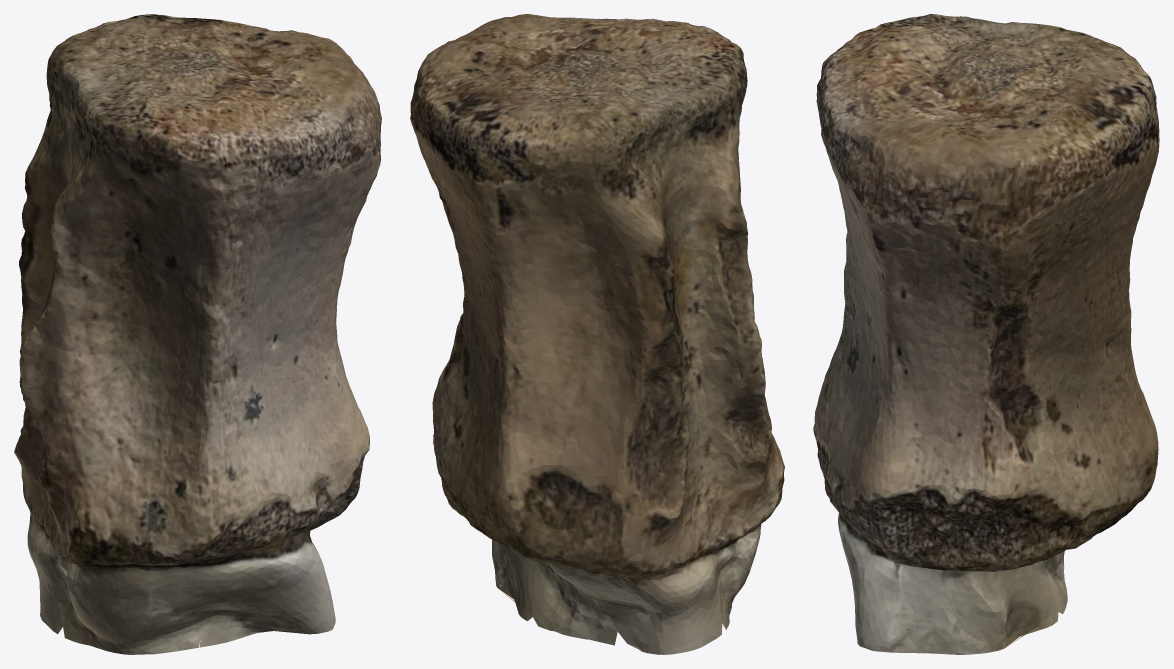
Rendered from APS.2013.05.glb.
3 views of the same model, side by side, from view 1: azimuth 30°, elevation 25°; view 2: azimuth 150°, elevation 25°; view 3: azimuth 270°, elevation 25° (orthographic).
Bounding box in the file's own units: 0.0347 × 0.0533 × 0.0306.
Materials: 1 (1 with a texture image).
